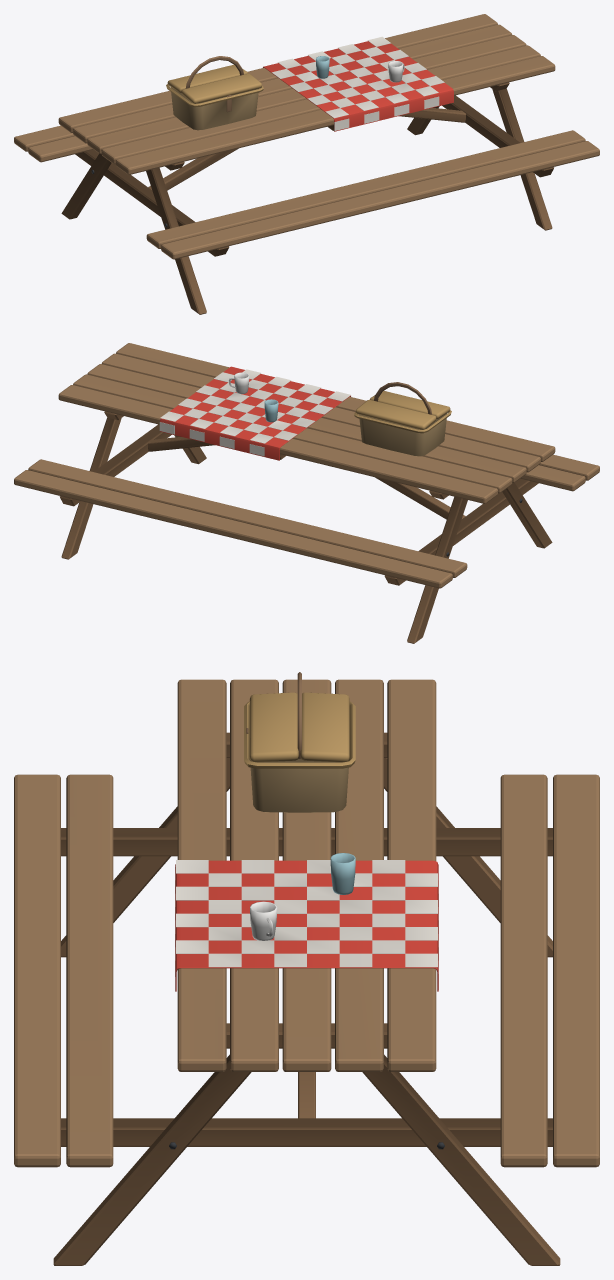
Rendered from picnicTable.glb.
3 renders of one model, top to bottom at view 1: azimuth 30°, elevation 25°; view 2: azimuth 150°, elevation 25°; view 3: azimuth 270°, elevation 25°, orthographic. The views are drawn at different scales.
Visible parts, largest first — view 1: picnicTable; view 2: picnicTable; view 3: picnicTable.
Part boxes in pixels (x1,y1,x2,y2): picnicTable: (14, 14, 599, 314); picnicTable: (14, 343, 599, 643); picnicTable: (14, 672, 599, 1265).
Bounding box in the file's own units: 2.5 × 1.05 × 1.62.
